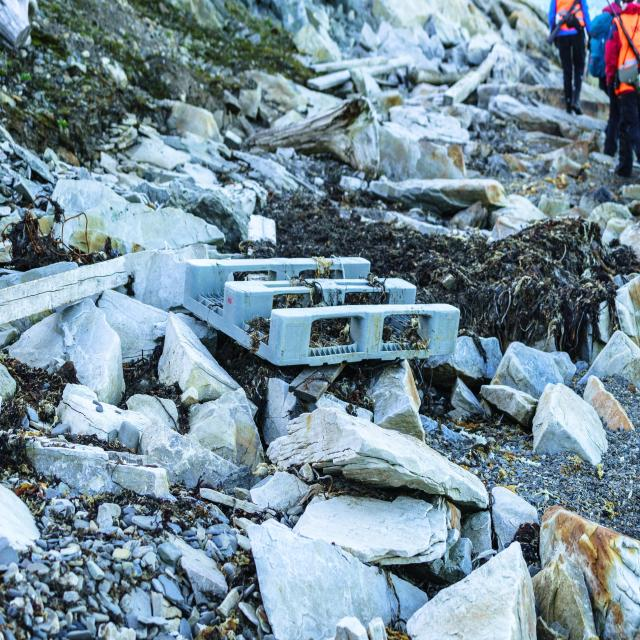litter: (183, 258, 460, 367)
